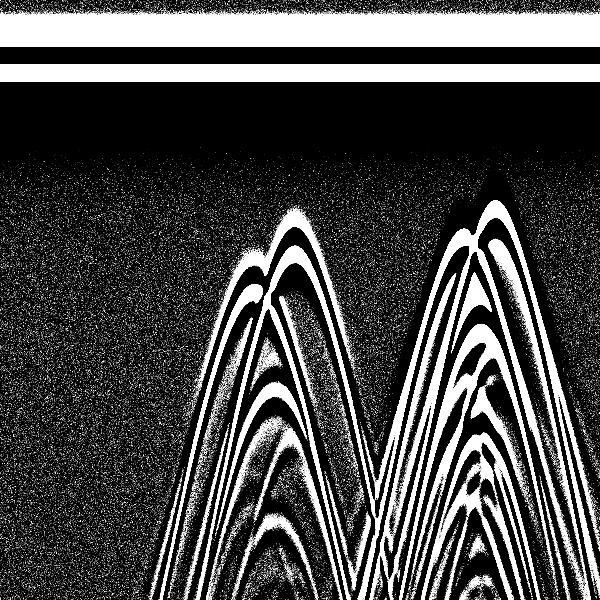pipe: (204, 8, 299, 348), (411, 5, 509, 312), (449, 7, 542, 291), (254, 11, 340, 312)
